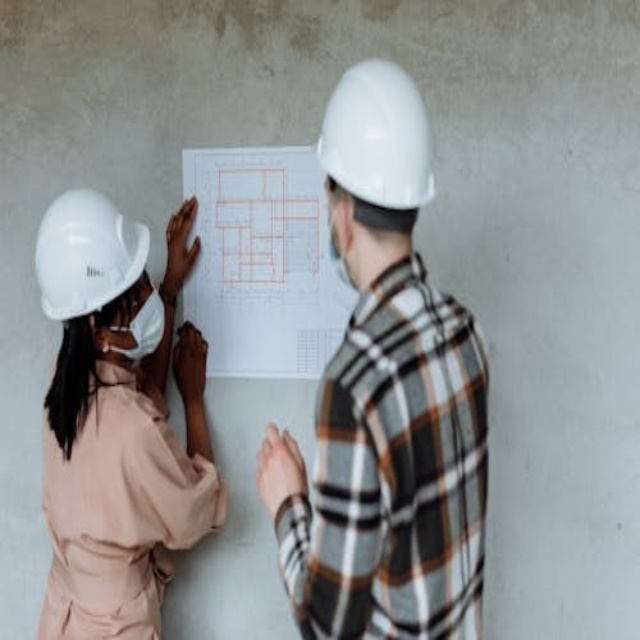Mascara: (105, 286, 166, 362), (327, 201, 356, 290)
Sin_guantes: (255, 421, 306, 520), (162, 196, 202, 293), (171, 322, 209, 396)
